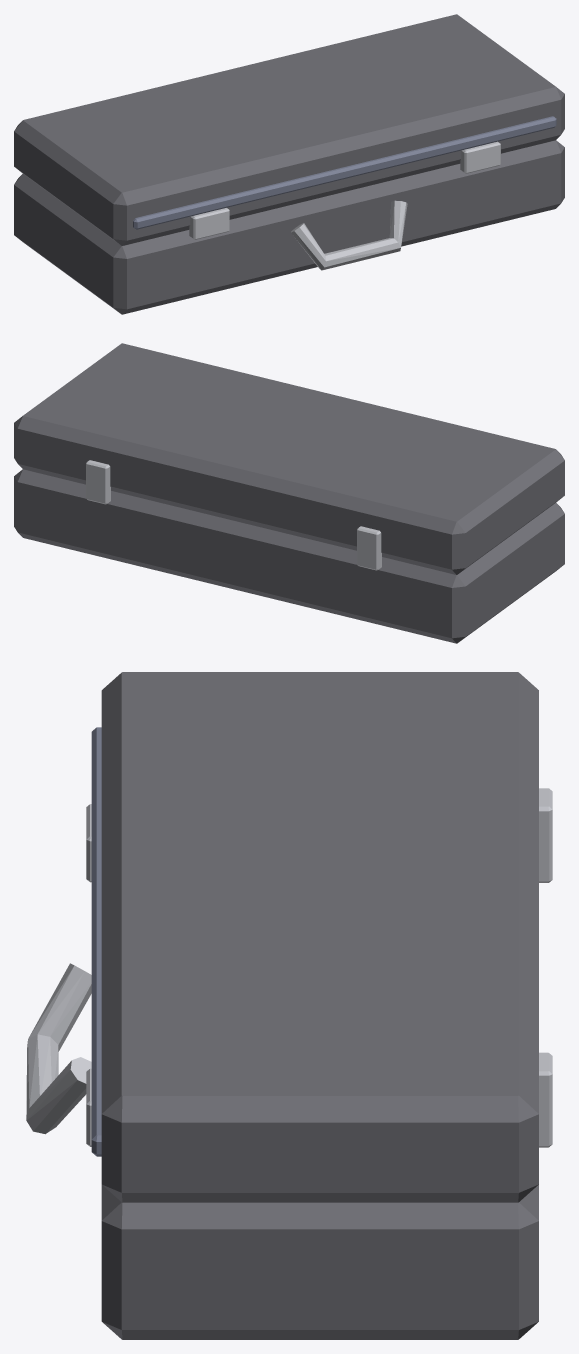
Rendered from orchestra-and-band-instruments-violin-case-af975df8__39312.glb.
3 renders of one model, top to bottom at view 1: azimuth 30°, elevation 25°; view 2: azimuth 150°, elevation 25°; view 3: azimuth 270°, elevation 25°, orthographic. The views are drawn at different scales.
Parts seen in each view (by area): view 1: lid/dark, violin-case, lid/fabric; view 2: lid/dark, violin-case; view 3: lid/dark, violin-case, lid/fabric.
Part boxes in pixels (left/top/right/bottom): lid/dark: left=14, top=14, right=564, bottom=245; violin-case: left=14, top=140, right=564, bottom=314; lid/fabric: left=133, top=116, right=556, bottom=229; lid/dark: left=14, top=343, right=564, bottom=574; violin-case: left=14, top=460, right=564, bottom=643; lid/dark: left=101, top=672, right=538, bottom=1202; violin-case: left=26, top=788, right=552, bottom=1339; lid/fabric: left=91, top=727, right=101, bottom=1156.
Size of the model in its own units: 0.62 by 0.16 by 0.3127.
